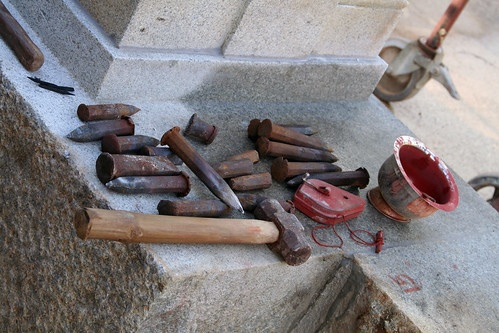hammer: (71, 197, 314, 269)
